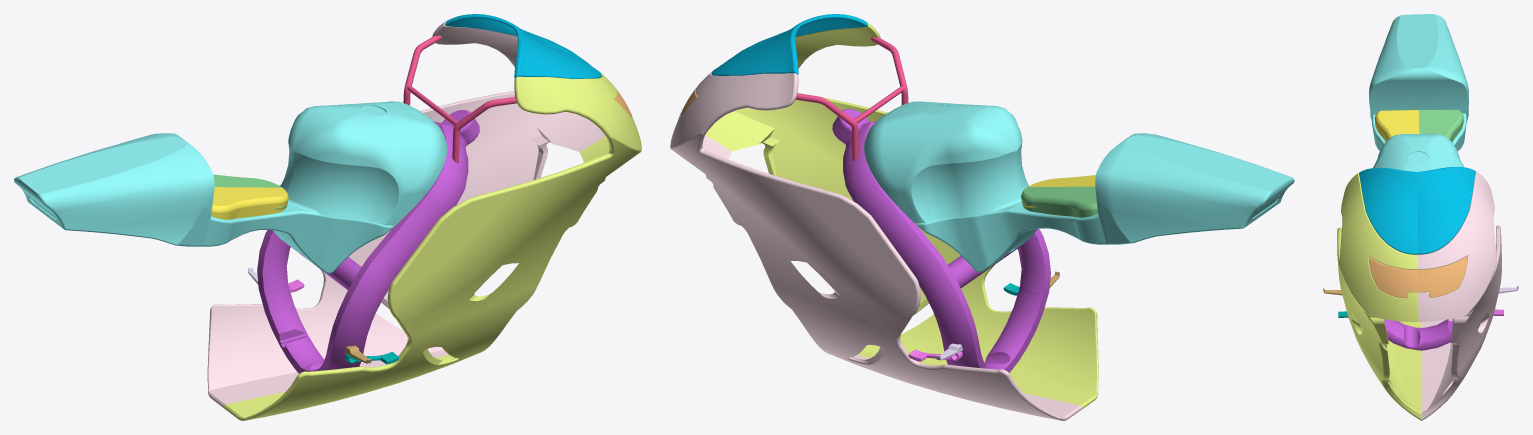
Rendered from bodywork_exterior_assembly.glb.
The picture shows the model from 3 angles, left to right: view 1: azimuth 30°, elevation 25°; view 2: azimuth 150°, elevation 25°; view 3: azimuth 270°, elevation 25°; orthographic projection. The views are drawn at different scales.
Visible parts, largest first — view 1: User Library-racing bike_racing bike.sldasm-Part-3-1, User Library-racing bike_racing bike.sldasm-Part-46-1, User Library-racing bike_racing bike.sldasm-Part-47-1, User Library-racing bike_racing bike.sldasm-Part-25-1, User Library-racing bike_racing bike.sldasm-Part-23-1, User Library-racing bike_racing bike.sldasm-Part-22-1, User Library-racing bike_racing bike.sldasm-Part-16-1, User Library-racing bike_racing bike.sldasm-Part-21-1; view 2: User Library-racing bike_racing bike.sldasm-Part-3-1, User Library-racing bike_racing bike.sldasm-Part-47-1, User Library-racing bike_racing bike.sldasm-Part-46-1, User Library-racing bike_racing bike.sldasm-Part-25-1, User Library-racing bike_racing bike.sldasm-Part-23-1, User Library-racing bike_racing bike.sldasm-Part-21-1, User Library-racing bike_racing bike.sldasm-Part-16-1, User Library-racing bike_racing bike.sldasm-Part-22-1; view 3: User Library-racing bike_racing bike.sldasm-Part-3-1, User Library-racing bike_racing bike.sldasm-Part-47-1, User Library-racing bike_racing bike.sldasm-Part-46-1, User Library-racing bike_racing bike.sldasm-Part-23-1, User Library-racing bike_racing bike.sldasm-Part-24-1, User Library-racing bike_racing bike.sldasm-Part-25-1, User Library-racing bike_racing bike.sldasm-Part-21-1, User Library-racing bike_racing bike.sldasm-Part-22-1.
Boxes of the visible parts, x1,y1,x2,y2 form: User Library-racing bike_racing bike.sldasm-Part-3-1: (14,101,447,273); User Library-racing bike_racing bike.sldasm-Part-46-1: (224,72,641,420); User Library-racing bike_racing bike.sldasm-Part-47-1: (207,21,605,407); User Library-racing bike_racing bike.sldasm-Part-25-1: (257,110,479,373); User Library-racing bike_racing bike.sldasm-Part-23-1: (445,14,601,78); User Library-racing bike_racing bike.sldasm-Part-22-1: (211,187,288,219); User Library-racing bike_racing bike.sldasm-Part-16-1: (403,35,516,163); User Library-racing bike_racing bike.sldasm-Part-21-1: (213,174,287,209); User Library-racing bike_racing bike.sldasm-Part-3-1: (864,101,1294,272); User Library-racing bike_racing bike.sldasm-Part-47-1: (670,71,1081,420); User Library-racing bike_racing bike.sldasm-Part-46-1: (705,22,1098,409); User Library-racing bike_racing bike.sldasm-Part-25-1: (832,109,1050,372); User Library-racing bike_racing bike.sldasm-Part-23-1: (711,14,867,75); User Library-racing bike_racing bike.sldasm-Part-21-1: (1021,186,1097,217); User Library-racing bike_racing bike.sldasm-Part-16-1: (795,37,908,160); User Library-racing bike_racing bike.sldasm-Part-22-1: (1022,175,1095,207); User Library-racing bike_racing bike.sldasm-Part-3-1: (1369,14,1468,171); User Library-racing bike_racing bike.sldasm-Part-47-1: (1417,171,1501,420); User Library-racing bike_racing bike.sldasm-Part-46-1: (1337,173,1421,420); User Library-racing bike_racing bike.sldasm-Part-23-1: (1359,166,1475,254); User Library-racing bike_racing bike.sldasm-Part-24-1: (1368,256,1467,298); User Library-racing bike_racing bike.sldasm-Part-25-1: (1384,254,1453,350); User Library-racing bike_racing bike.sldasm-Part-21-1: (1419,109,1463,142); User Library-racing bike_racing bike.sldasm-Part-22-1: (1374,110,1419,141).
Bounding box in the file's own units: 0.1279 × 0.0654 × 0.0443.
